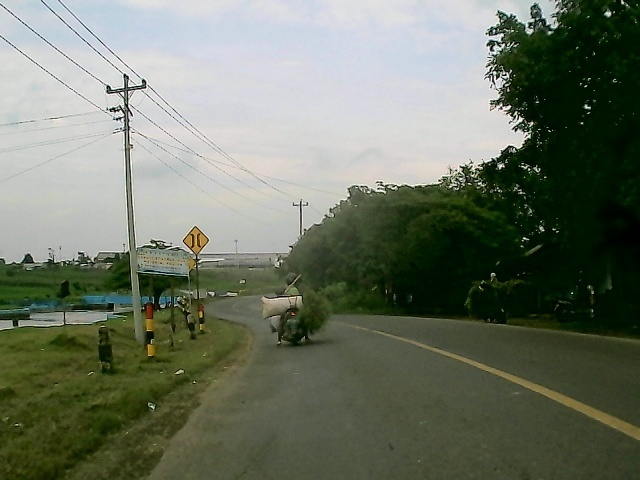Jembatan: (181, 225, 212, 259)
